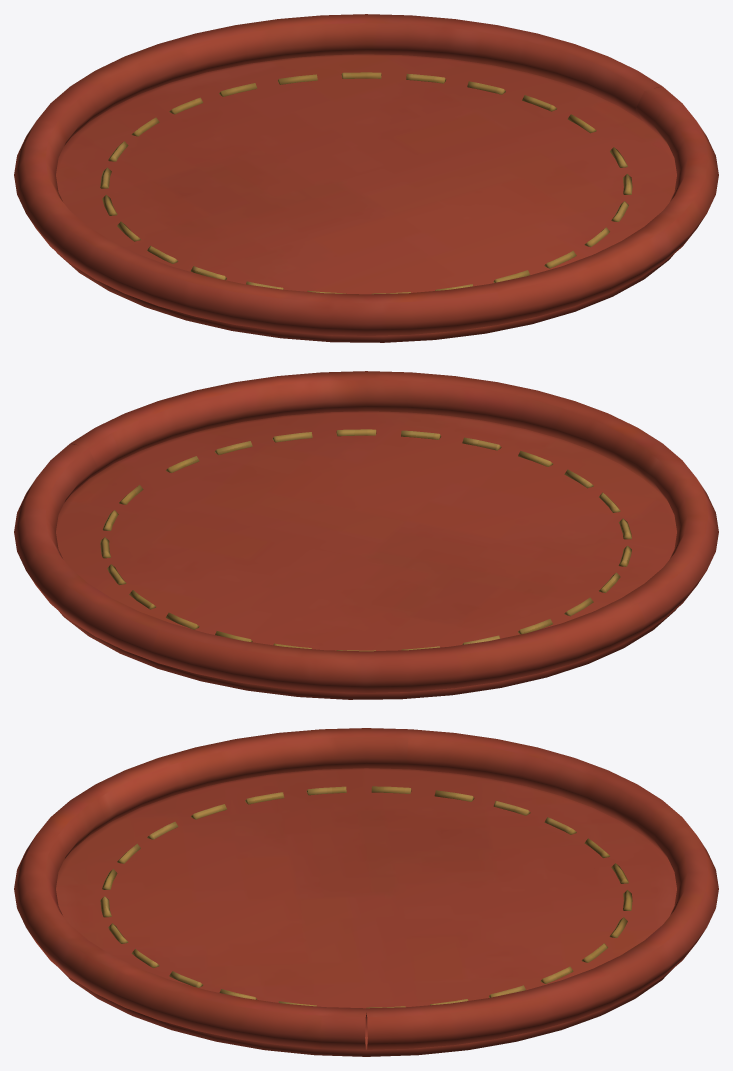
Rendered from tray_round_red.glb.
The picture shows the model from 3 angles, top to bottom: view 1: azimuth 30°, elevation 25°; view 2: azimuth 150°, elevation 25°; view 3: azimuth 270°, elevation 25°; orthographic projection.
Visible parts, largest first — view 1: tray_round_red_felt_red, tray_round_red_felt_gold; view 2: tray_round_red_felt_red, tray_round_red_felt_gold; view 3: tray_round_red_felt_red, tray_round_red_felt_gold.
Part boxes in pixels (<box>): tray_round_red_felt_red: <box>14,14,718,342</box>; tray_round_red_felt_gold: <box>100,72,632,294</box>; tray_round_red_felt_red: <box>14,371,718,699</box>; tray_round_red_felt_gold: <box>100,429,631,651</box>; tray_round_red_felt_red: <box>14,728,718,1056</box>; tray_round_red_felt_gold: <box>100,786,632,1008</box>.
Size of the model in its own units: 0.8079 by 0.0608 by 0.808.
2 materials, 2 textured.
